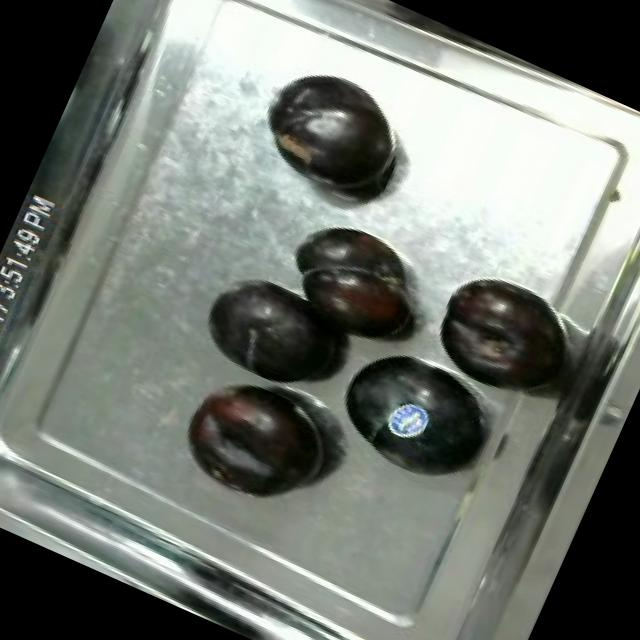Fruit: (314, 328, 508, 502), (246, 52, 424, 215), (166, 354, 344, 512), (182, 255, 362, 410), (269, 204, 442, 363), (418, 260, 578, 409)
